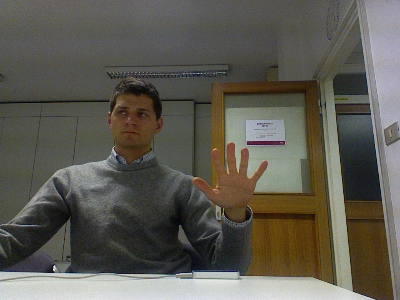布: (191, 142, 268, 210)
